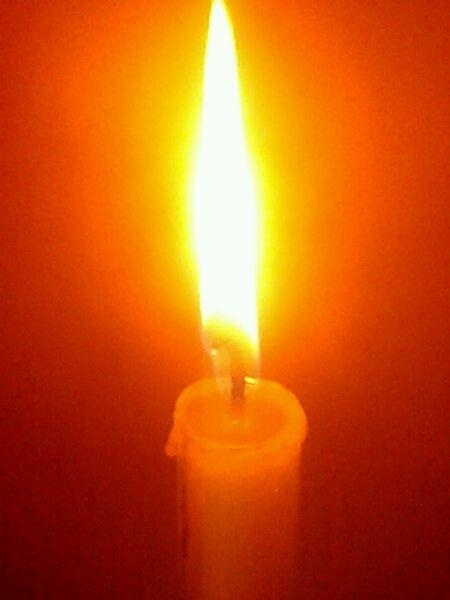fire: (173, 0, 275, 372)
